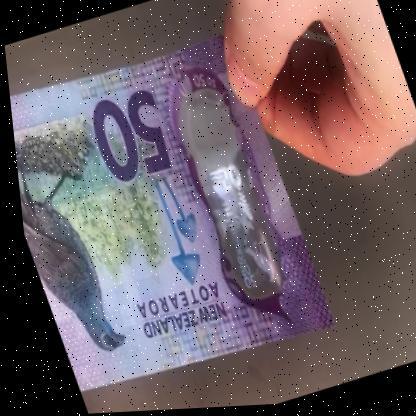50B: (178, 106, 276, 304)
